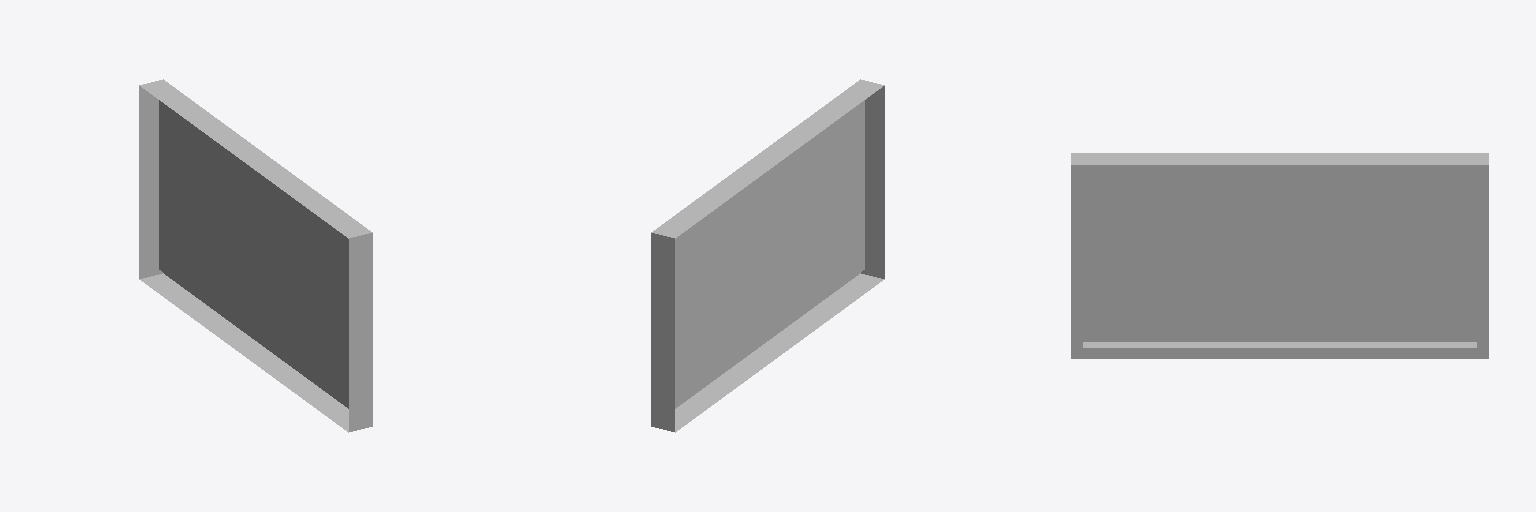
File: vent.obj
3 renders of one model, left to right at view 1: azimuth 30°, elevation 25°; view 2: azimuth 150°, elevation 25°; view 3: azimuth 270°, elevation 25°, orthographic.
Visible parts, largest first — view 1: vent corroridor_4; view 2: vent corroridor_4; view 3: vent corroridor_4.
Boxes of the visible parts, box(x1,y1,x2,y2) form: vent corroridor_4: box(139, 79, 372, 432); vent corroridor_4: box(651, 79, 884, 432); vent corroridor_4: box(1071, 153, 1488, 358).
Bounding box in the file's own units: 0.2256 × 1.72 × 3.37.